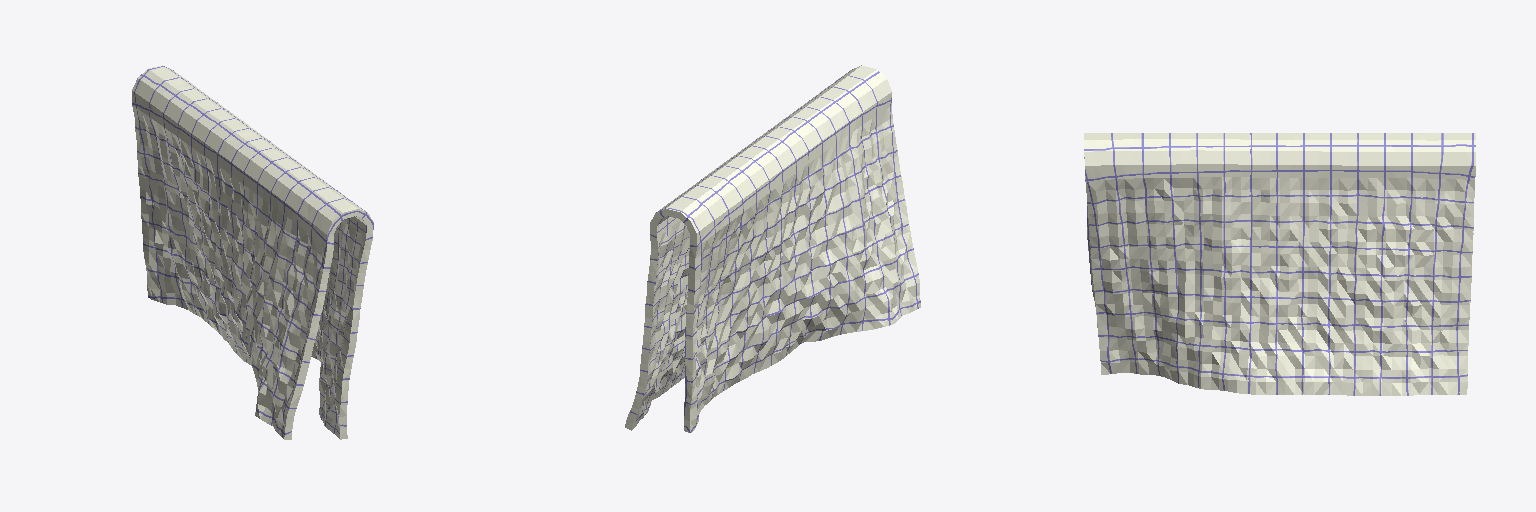
3 renders of one model, left to right at view 1: azimuth 30°, elevation 25°; view 2: azimuth 150°, elevation 25°; view 3: azimuth 270°, elevation 25°, orthographic.
Visible parts, largest first — view 1: Grid; view 2: Grid; view 3: Grid.
Part boxes in pixels (x1,y1,x2,y2): Grid: (132, 65, 373, 439); Grid: (625, 65, 920, 432); Grid: (1084, 133, 1475, 395).
Size of the model in its own units: 0.551 by 0.985 by 1.48.
1 materials, 1 textured.